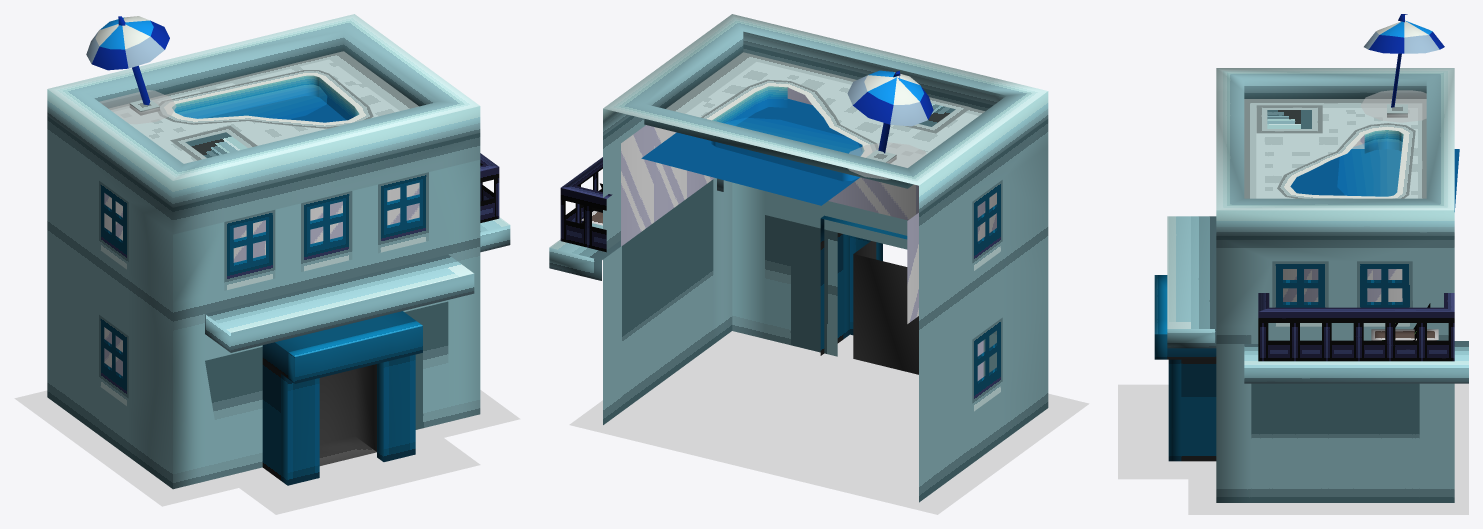
3 renders of one model, left to right at view 1: azimuth 30°, elevation 25°; view 2: azimuth 150°, elevation 25°; view 3: azimuth 270°, elevation 25°, orthographic. The views are drawn at different scales.
Visible parts, largest first — view 1: polygon5, polygon6, polygon4, polygon1, polygon0, polygon2, polygon9, polygon3; view 2: polygon5, polygon1, polygon4, polygon6, polygon2, polygon0, polygon3, polygon9; view 3: polygon5, polygon6, polygon4, polygon1, polygon3, polygon9, polygon0, polygon2, polygon8.
Part boxes in pixels (box(x1,y1,x2,y2)): polygon5: box(47, 14, 480, 489); polygon6: box(205, 217, 510, 485); polygon4: box(109, 51, 418, 163); polygon1: box(14, 90, 519, 514); polygon0: box(86, 16, 169, 115); polygon2: box(104, 182, 419, 376); polygon9: box(177, 85, 326, 119); polygon3: box(480, 153, 499, 222); polygon5: box(603, 14, 1048, 502); polygon1: box(569, 142, 1088, 514); polygon4: box(641, 52, 984, 205); polygon6: box(549, 178, 918, 374); polygon2: box(621, 88, 996, 380); polygon0: box(847, 70, 933, 163); polygon3: box(560, 157, 612, 252); polygon9: box(725, 118, 859, 153); polygon5: box(1216, 68, 1454, 502); polygon6: box(1154, 216, 1468, 461); polygon4: box(1244, 99, 1459, 211); polygon1: box(1118, 90, 1468, 514); polygon3: box(1258, 293, 1454, 361); polygon9: box(1337, 139, 1402, 196); polygon0: box(1364, 14, 1444, 117); polygon2: box(1283, 135, 1402, 301); polygon8: box(1371, 329, 1438, 340).
Size of the model in its own units: 7.38 by 7.25 by 6.25.
